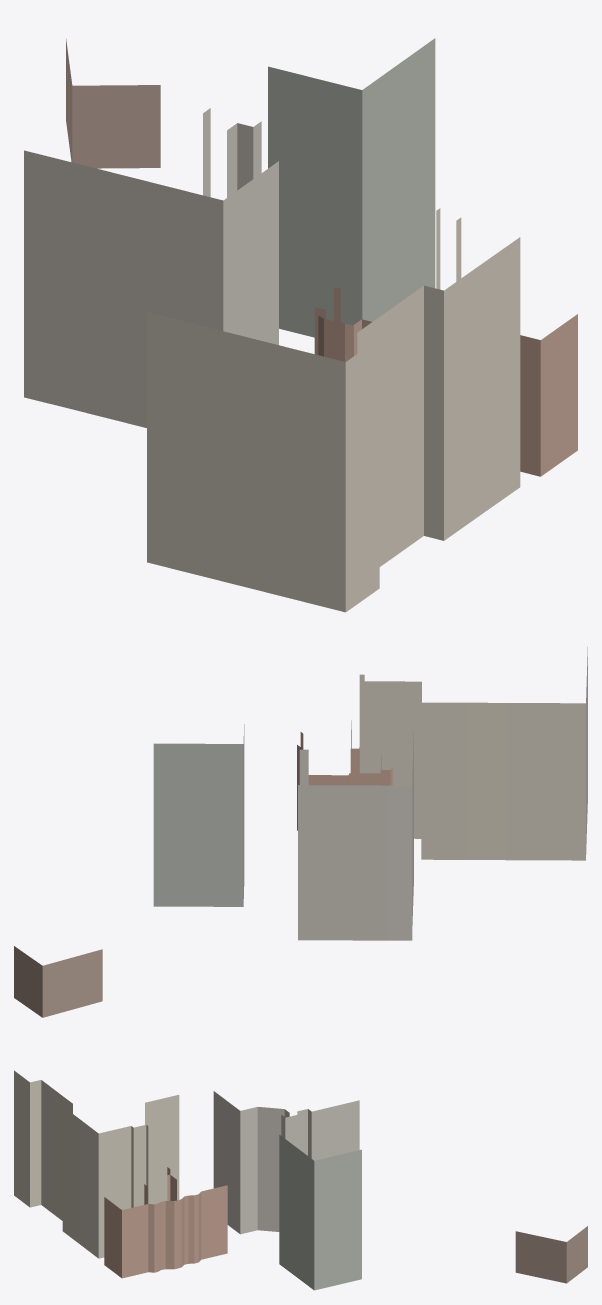
The model's file is campus.glb.
The picture shows the model from 3 angles, top to bottom: view 1: azimuth 30°, elevation 25°; view 2: azimuth 150°, elevation 25°; view 3: azimuth 270°, elevation 25°; orthographic projection. The views are drawn at different scales.
Parts seen in each view (by area): view 1: building-N, building-W, building-E, building-TH, building-BTB; view 2: building-N, building-W, building-E, building-BTB, building-TH; view 3: building-N, building-W, building-E, building-TH, building-BTB.
Part boxes in pixels (bbox=[...]): building-N: bbox=[147, 208, 520, 612]; building-W: bbox=[24, 108, 278, 427]; building-E: bbox=[268, 38, 435, 337]; building-TH: bbox=[314, 287, 577, 476]; building-BTB: bbox=[66, 39, 160, 168]; building-N: bbox=[359, 647, 587, 860]; building-W: bbox=[298, 732, 413, 940]; building-E: bbox=[153, 724, 244, 906]; building-BTB: bbox=[14, 946, 102, 1017]; building-TH: bbox=[297, 720, 392, 830]; building-N: bbox=[14, 1070, 179, 1258]; building-W: bbox=[213, 1091, 359, 1234]; building-E: bbox=[279, 1135, 361, 1290]; building-TH: bbox=[104, 1167, 227, 1278]; building-BTB: bbox=[515, 1226, 587, 1283].
Bounding box in the file's own units: 148 × 75.01 × 301.
